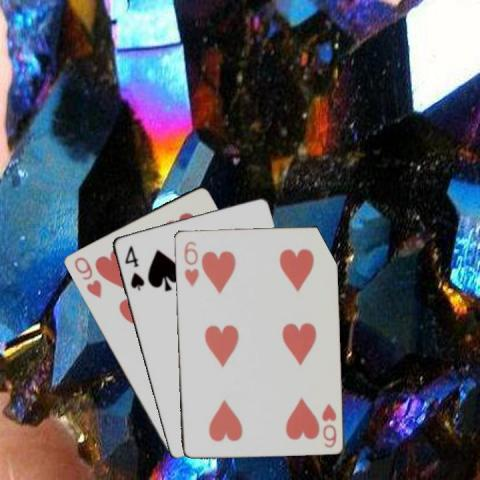4s: (122, 242, 146, 292)
6h: (181, 238, 200, 288), (318, 400, 337, 449)
9h: (70, 253, 102, 300)
